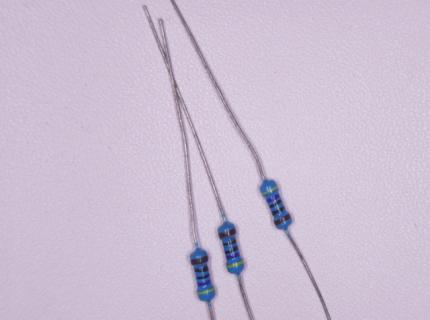Black band: (224, 245, 239, 255), (269, 199, 283, 209), (271, 206, 285, 216), (223, 238, 237, 247), (195, 266, 210, 274), (196, 274, 210, 281)
Brown band: (218, 227, 237, 240), (274, 213, 292, 226), (189, 255, 209, 266)
Violet band: (227, 251, 240, 260), (267, 194, 280, 203), (197, 279, 211, 287)
Yellow band: (262, 185, 278, 196), (227, 260, 243, 269), (198, 288, 214, 295)
